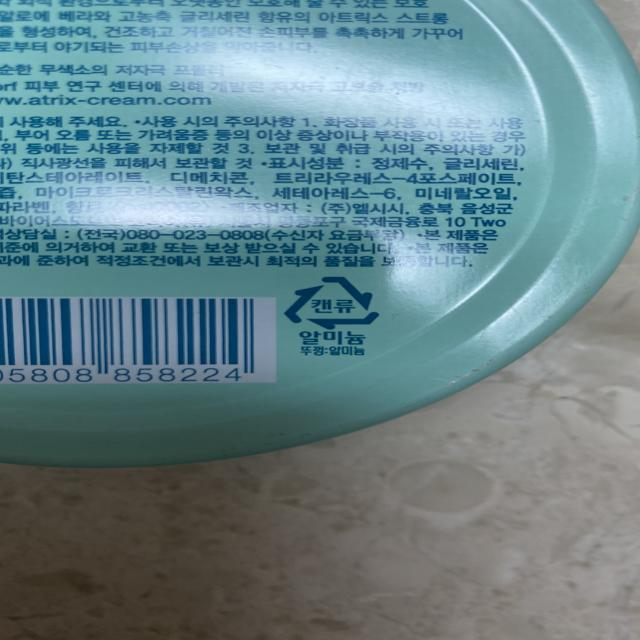Can: (274, 272, 393, 335)
